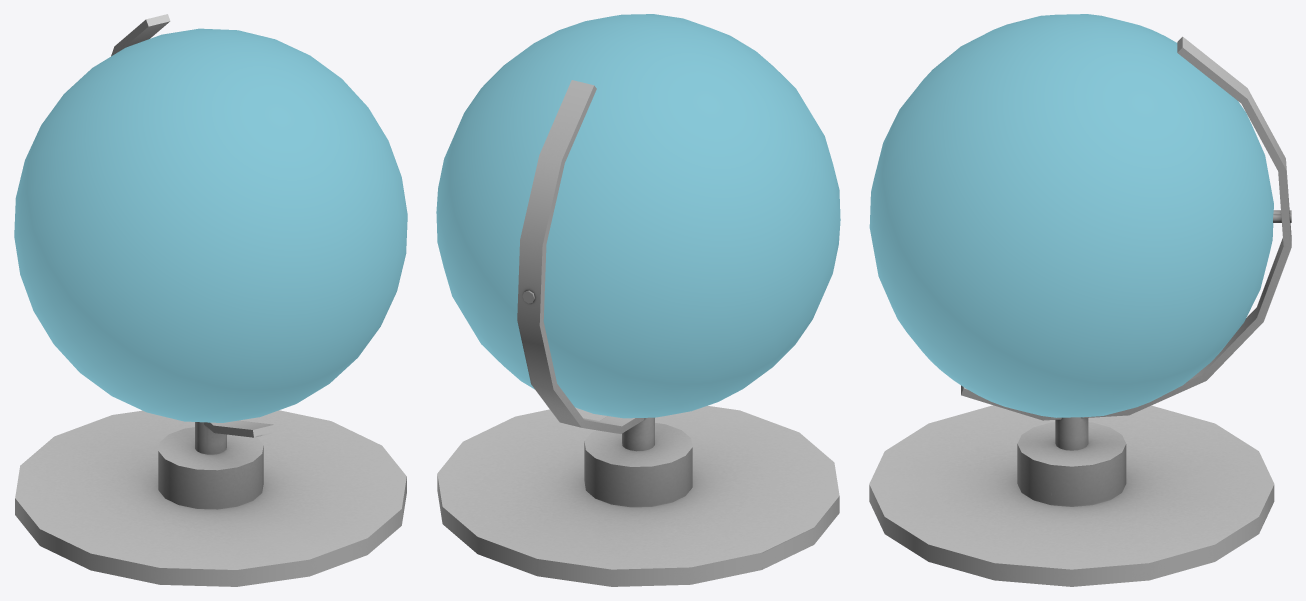
The model's file is GlowGlobe2.glb.
3 views of the same model, side by side, from view 1: azimuth 30°, elevation 25°; view 2: azimuth 150°, elevation 25°; view 3: azimuth 270°, elevation 25° (orthographic). The views are drawn at different scales.
Parts seen in each view (by area): view 1: InteriorSphere, GlobeBase; view 2: InteriorSphere, GlobeBase; view 3: InteriorSphere, GlobeBase.
Part boxes in pixels (x1,y1,x2,y2): InteriorSphere: [14, 28, 407, 422]; GlobeBase: [15, 14, 406, 586]; InteriorSphere: [436, 14, 840, 418]; GlobeBase: [437, 80, 839, 586]; InteriorSphere: [869, 14, 1273, 417]; GlobeBase: [869, 36, 1291, 586].
Size of the model in its own units: 2 by 2.55 by 2.09.
2 materials, 1 textured.
